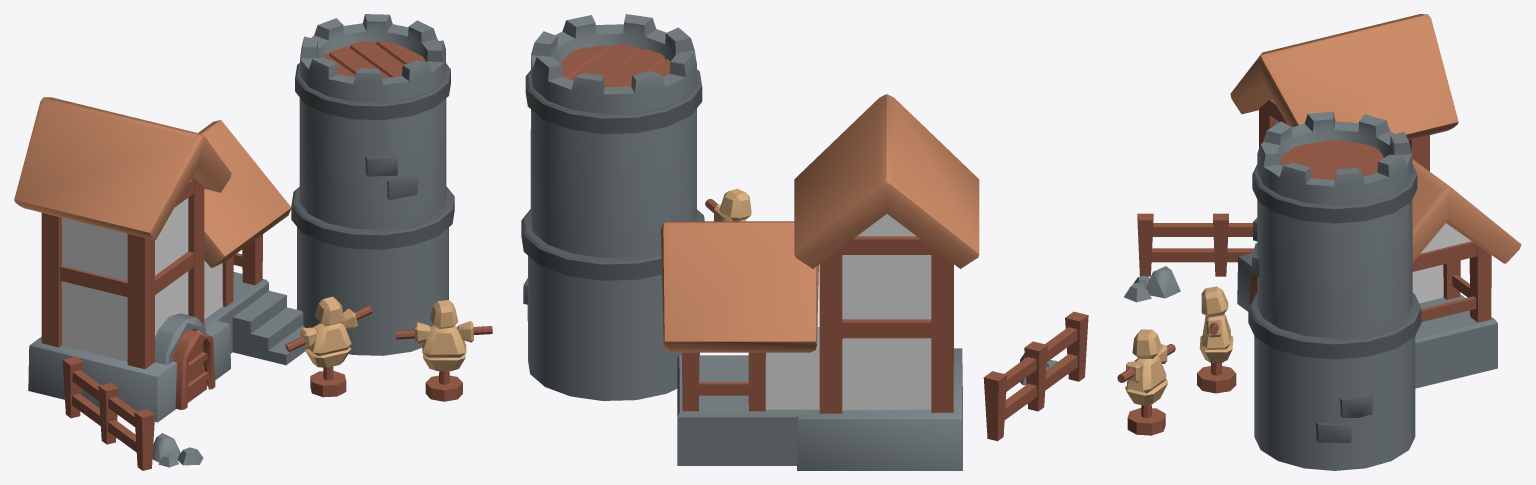
Rendered from barracks.glb.
3 views of the same model, side by side, from view 1: azimuth 30°, elevation 25°; view 2: azimuth 150°, elevation 25°; view 3: azimuth 270°, elevation 25° (orthographic). The views are drawn at different scales.
Visible parts, largest first — view 1: barracks; view 2: barracks; view 3: barracks.
Boxes of the visible parts, box(x1,y1,x2,y2) form: barracks: box(14, 14, 492, 470); barracks: box(521, 14, 1088, 470); barracks: box(1117, 14, 1521, 470).
Bounding box in the file's own units: 7.96 × 5.19 × 6.44.
